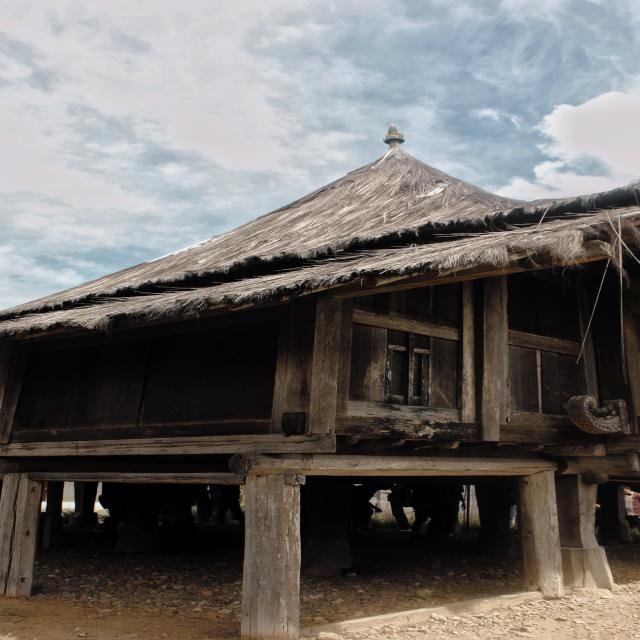Atap: (0, 125, 640, 340)
